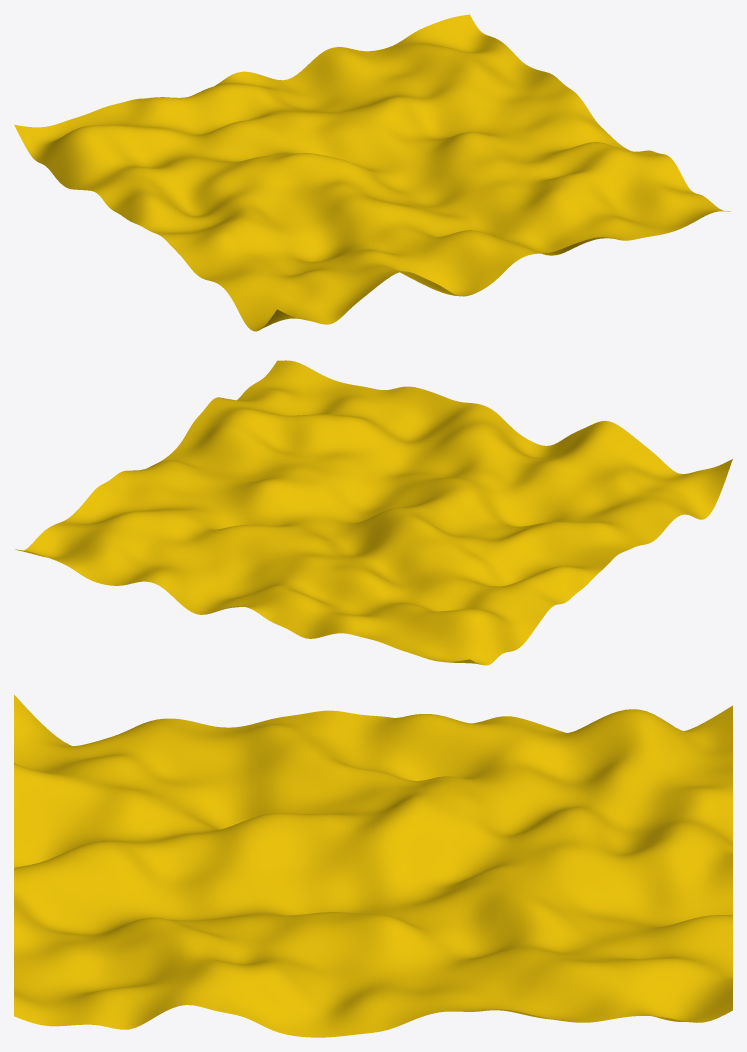
File: Sand Dunes.fbx
The picture shows the model from 3 angles, top to bottom: view 1: azimuth 30°, elevation 25°; view 2: azimuth 150°, elevation 25°; view 3: azimuth 270°, elevation 25°; orthographic projection. The views are drawn at different scales.
Parts seen in each view (by area): view 1: Sand; view 2: Sand; view 3: Sand.
Part boxes in pixels (x1,y1,x2,y2): Sand: [14, 14, 730, 331]; Sand: [15, 360, 732, 665]; Sand: [14, 695, 732, 1037].
Bounding box in the file's own units: 2500 × 247 × 2500.
